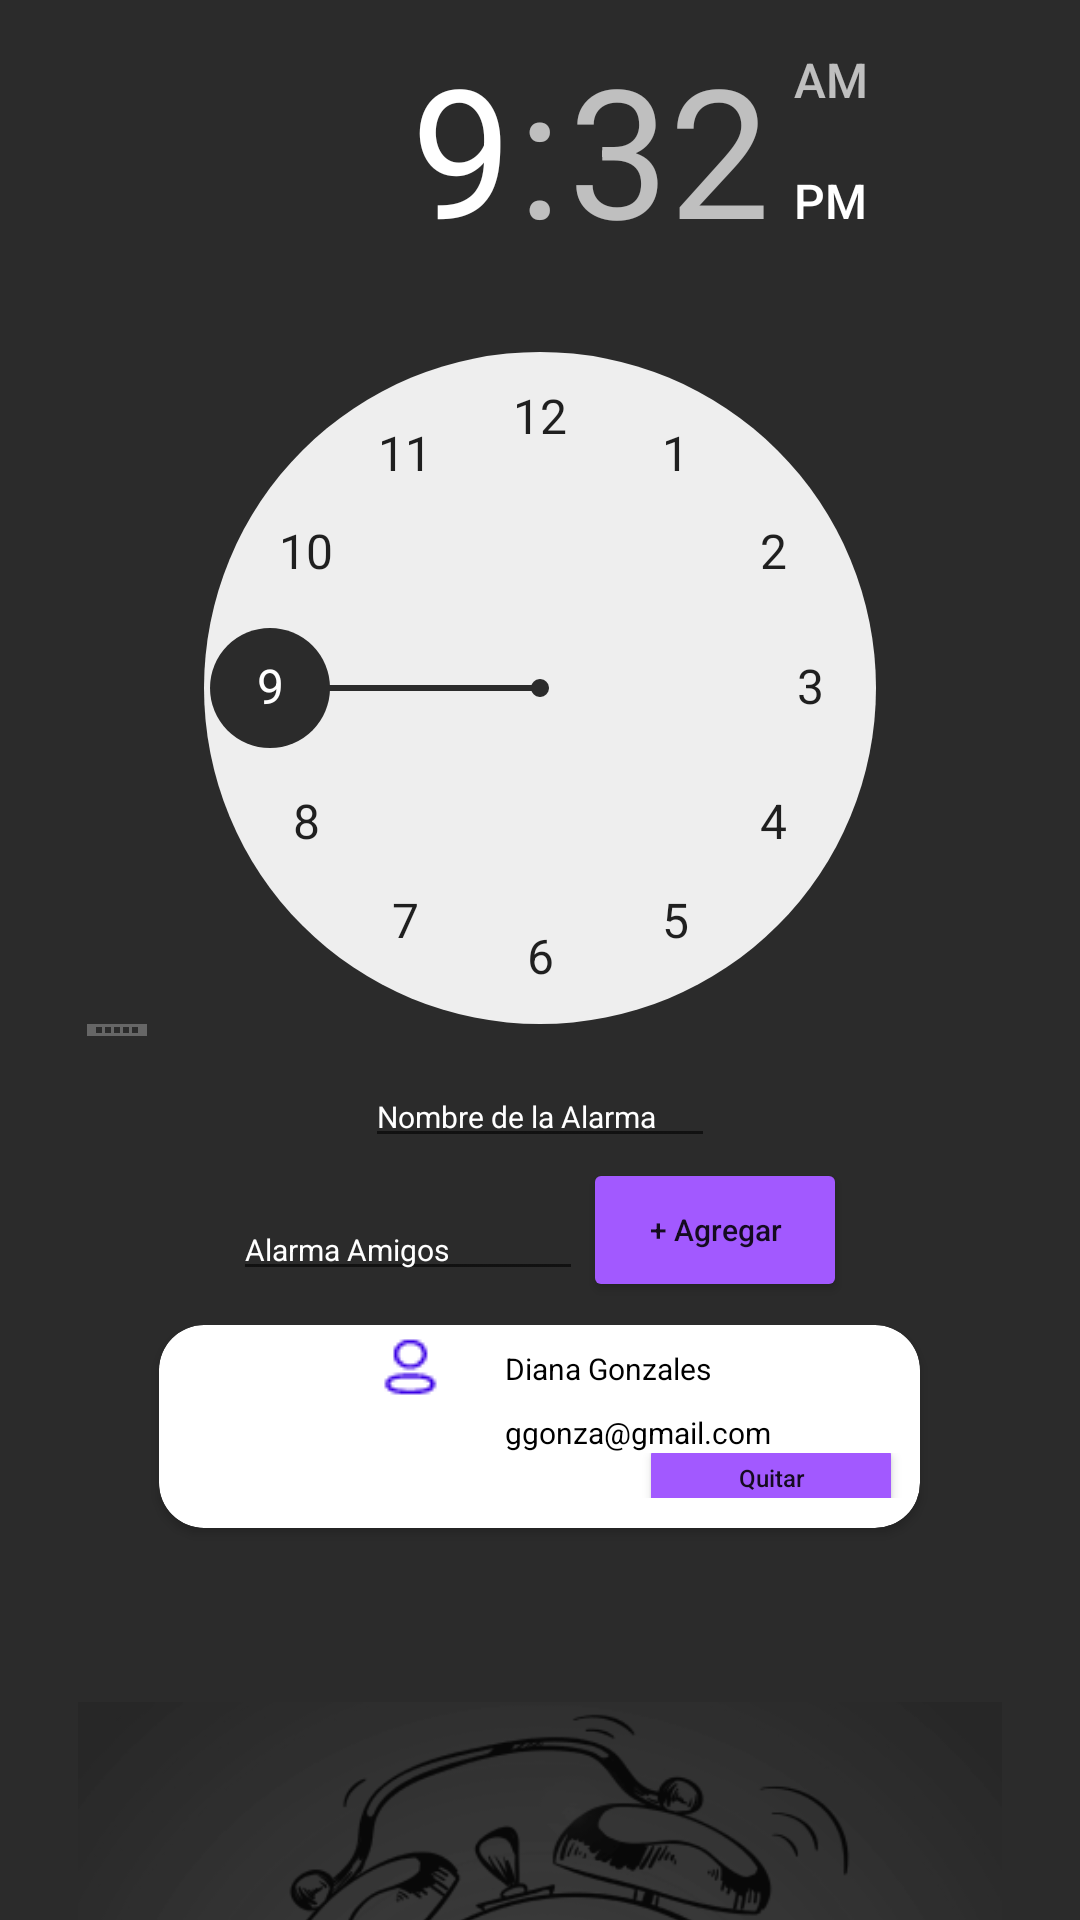

Where to tap for icons on this 1080px×1920px app screen, as point (x, y):
persona: point (410, 1367)
